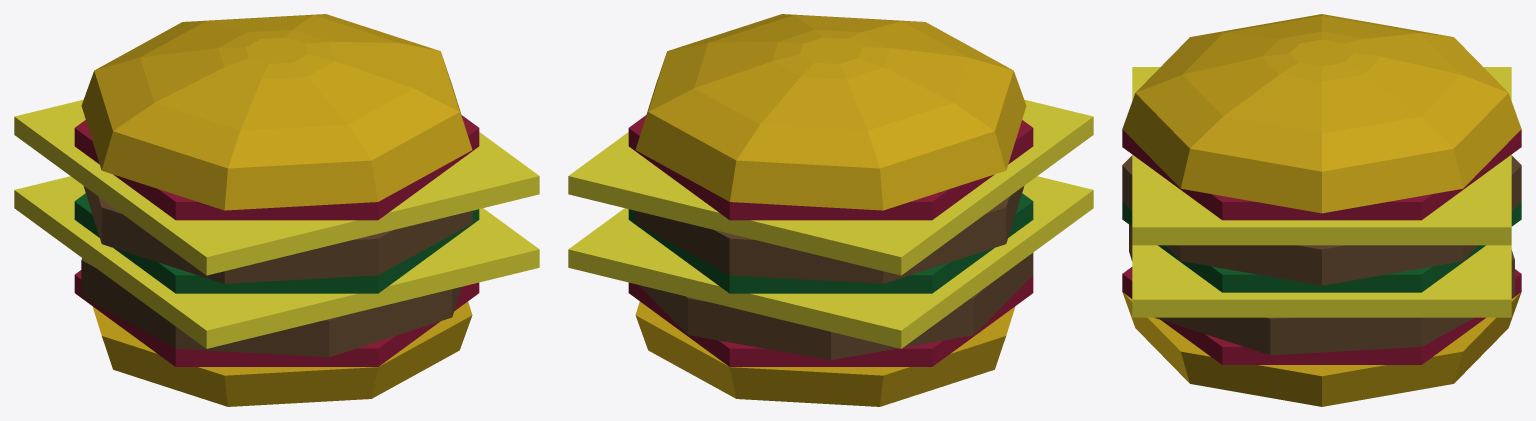
Rendered from Burger.fbx.
3 views of the same model, side by side, from view 1: azimuth 30°, elevation 25°; view 2: azimuth 150°, elevation 25°; view 3: azimuth 270°, elevation 25° (orthographic).
Visible parts, largest first — view 1: Burger; view 2: Burger; view 3: Burger.
Boxes of the visible parts, box(x1,y1,x2,y2) form: Burger: box(14, 14, 539, 406); Burger: box(568, 14, 1093, 406); Burger: box(1122, 14, 1521, 406).
Bounding box in the file's own units: 200 × 174 × 200.
